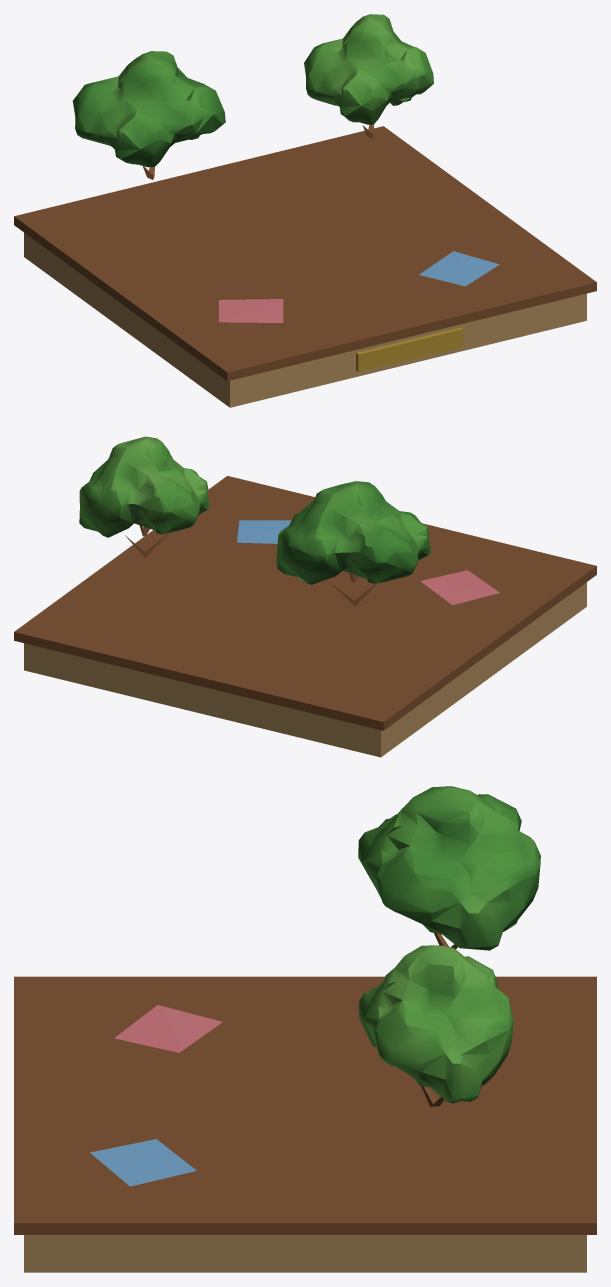
File: village_green_souvenir.glb
3 views of the same model, one above another, from view 1: azimuth 30°, elevation 25°; view 2: azimuth 150°, elevation 25°; view 3: azimuth 270°, elevation 25° (orthographic). The views are drawn at different scales.
Visible parts, largest first — view 1: decor-village_green_souvenir; view 2: decor-village_green_souvenir; view 3: decor-village_green_souvenir.
Part boxes in pixels (x1,y1,x2,y2): decor-village_green_souvenir: (14, 14, 596, 407); decor-village_green_souvenir: (14, 436, 596, 757); decor-village_green_souvenir: (14, 786, 596, 1272).
Bounding box in the file's own units: 1.76 × 0.9906 × 1.76.
